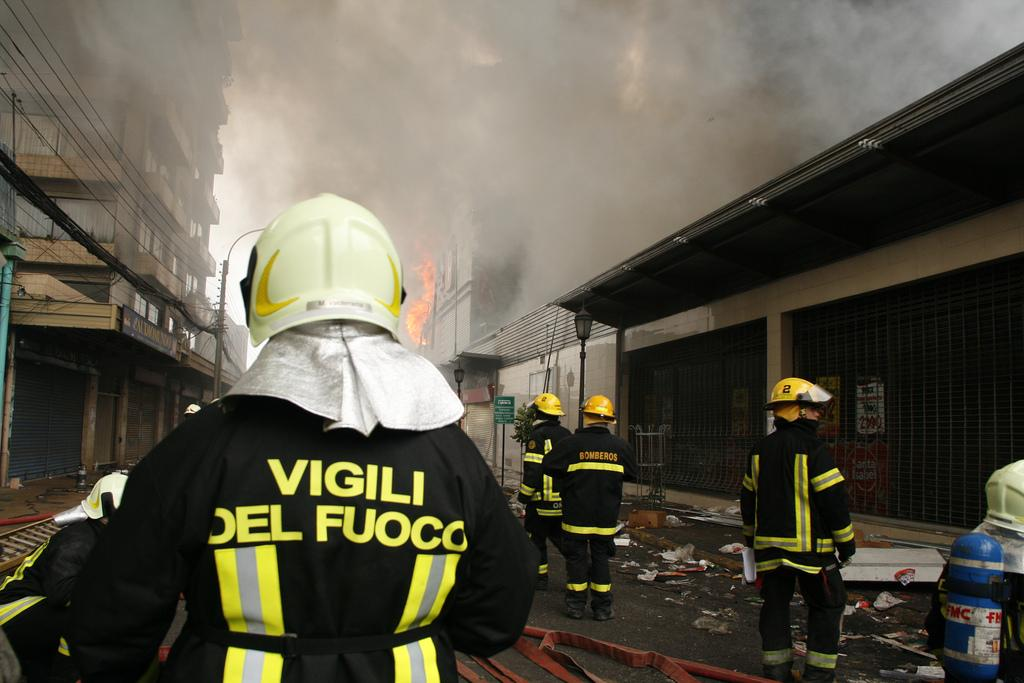fire: (408, 252, 443, 342)
smoke: (202, 8, 838, 147)
